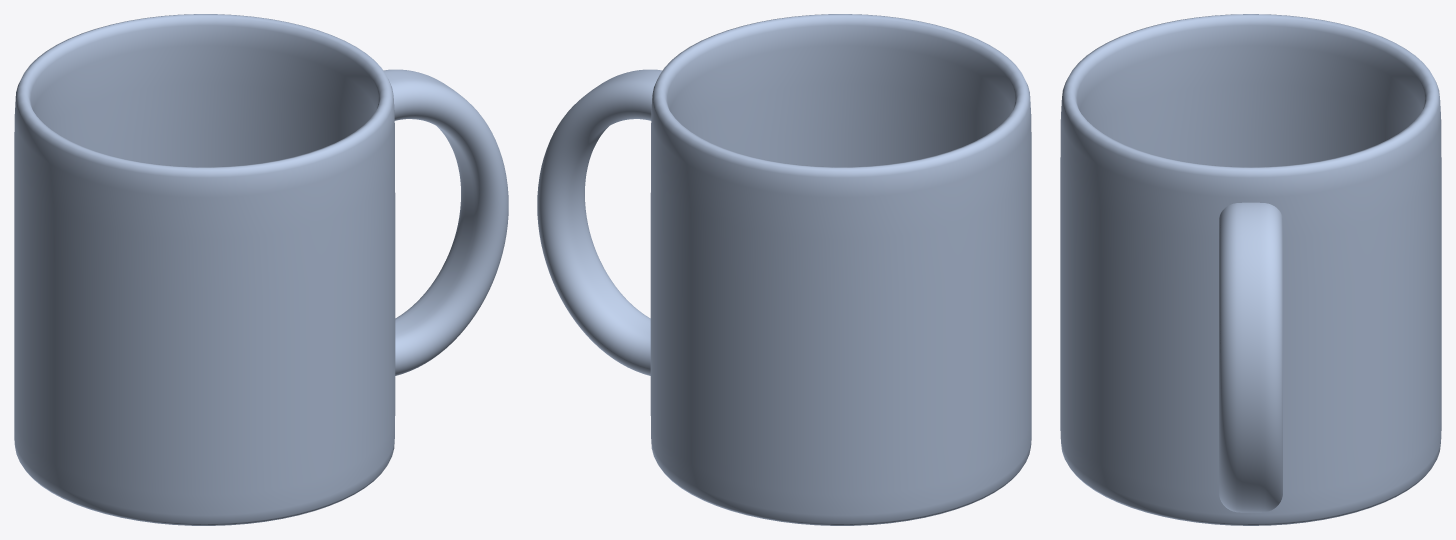
The model's file is mug_baked.glb.
3 renders of one model, left to right at view 1: azimuth 30°, elevation 25°; view 2: azimuth 150°, elevation 25°; view 3: azimuth 270°, elevation 25°, orthographic.
Parts seen in each view (by area): view 1: Cylinder; view 2: Cylinder; view 3: Cylinder.
Boxes of the visible parts, x1=… form: Cylinder: x1=14, y1=14, x2=508, y2=525; Cylinder: x1=537, y1=14, x2=1031, y2=525; Cylinder: x1=1060, y1=14, x2=1441, y2=525.
Size of the model in its own units: 461 by 340 by 331.
